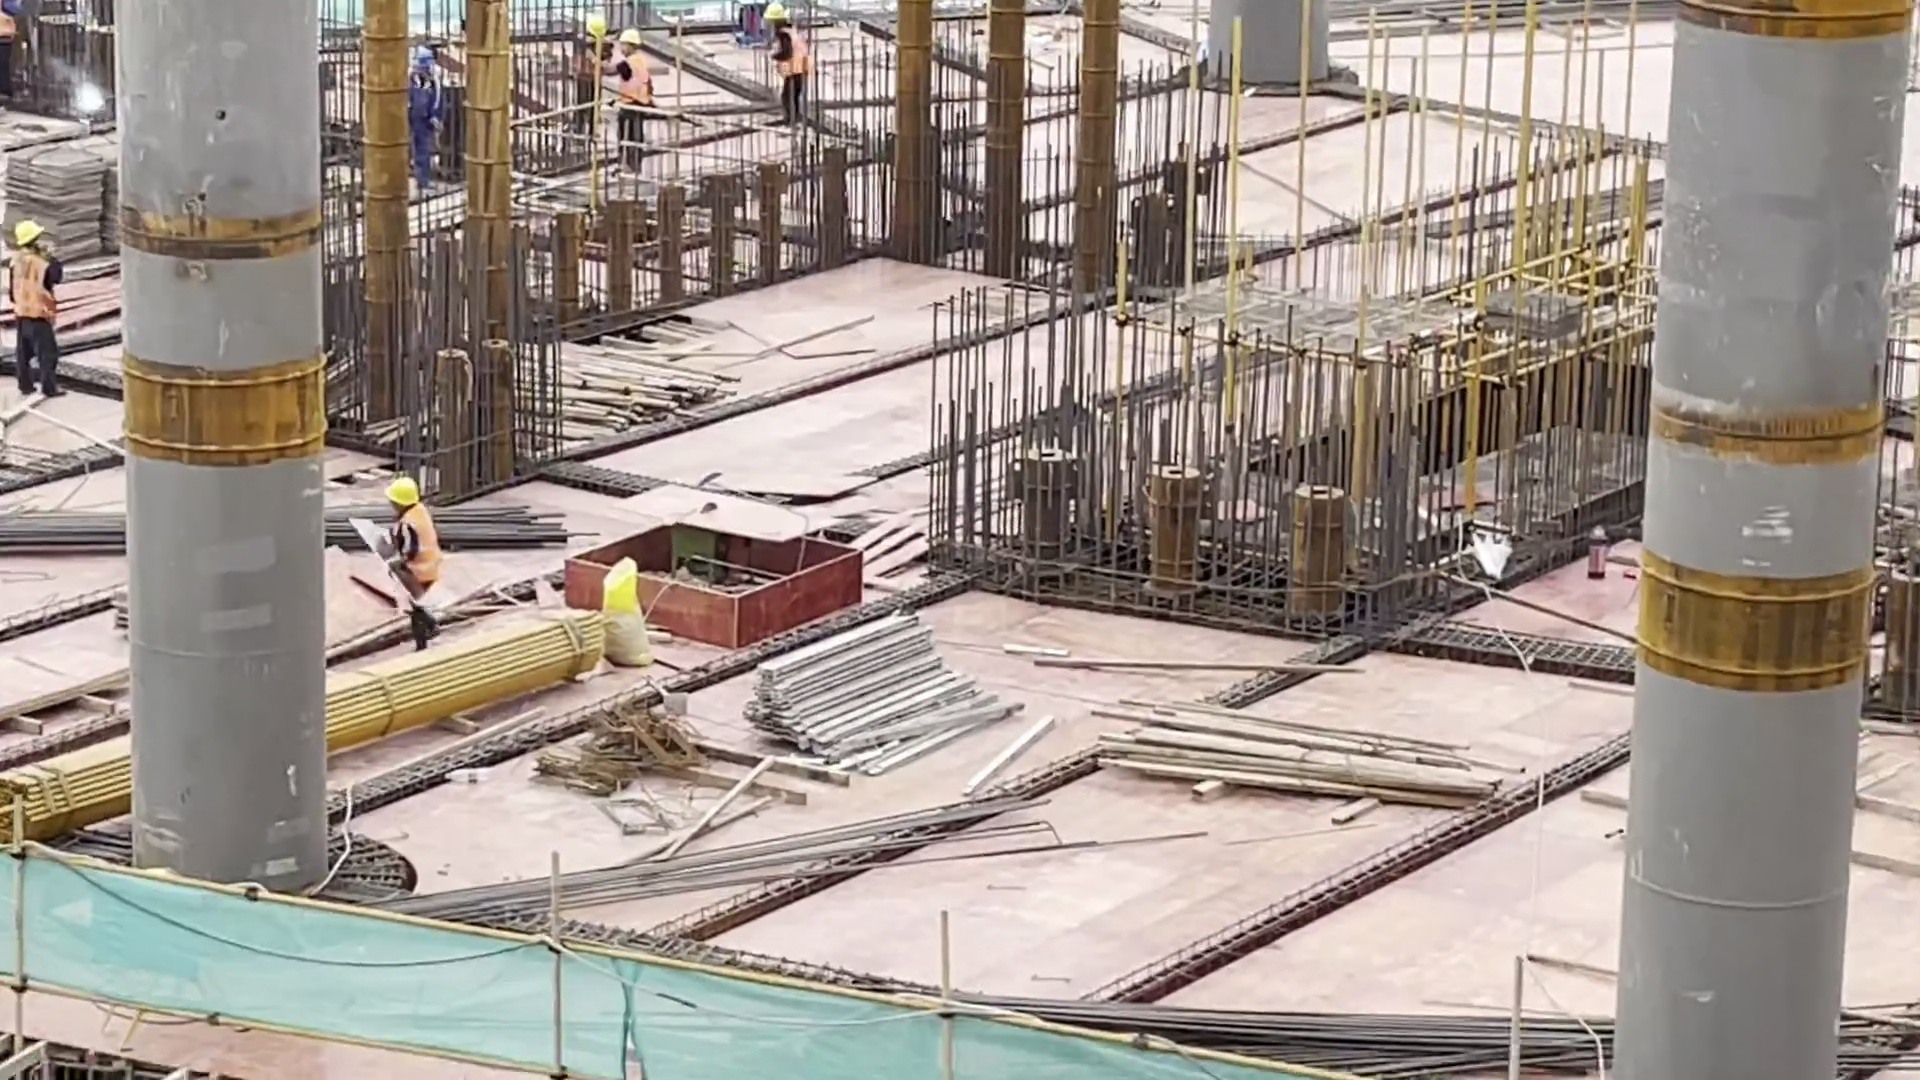helmet: (384, 477, 420, 509), (9, 220, 46, 246), (588, 14, 606, 39), (621, 28, 643, 46), (763, 4, 786, 19)
person: (4, 220, 71, 399), (384, 472, 442, 648), (769, 3, 817, 136), (406, 45, 448, 197), (618, 28, 657, 177), (573, 8, 606, 146)
vest: (393, 505, 441, 585), (13, 249, 59, 324), (617, 51, 654, 109), (777, 26, 809, 76)
